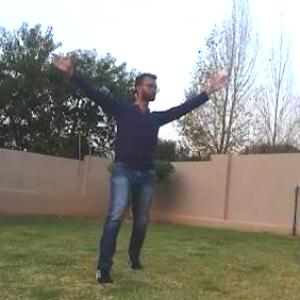takeoff: (53, 46, 230, 282)
